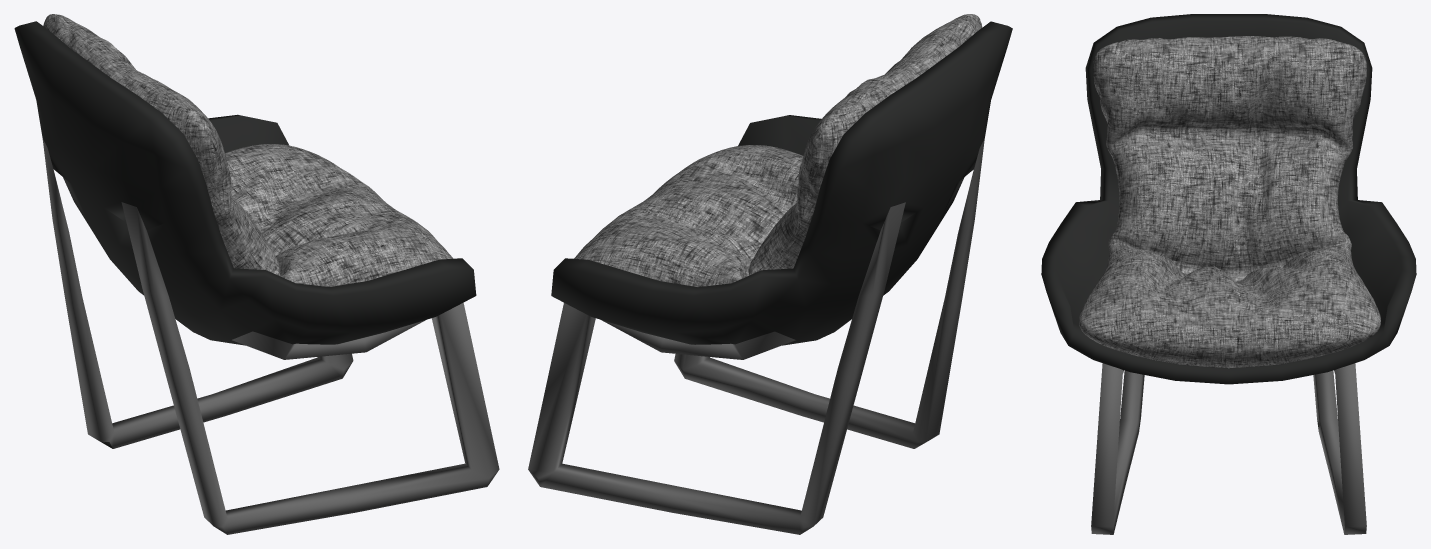
The model's file is chair.glb.
3 views of the same model, side by side, from view 1: azimuth 30°, elevation 25°; view 2: azimuth 150°, elevation 25°; view 3: azimuth 270°, elevation 25° (orthographic). The views are drawn at different scales.
Parts seen in each view (by area): view 1: chair, cushion; view 2: chair, cushion; view 3: cushion, chair.
Boxes of the visible parts, <box> form: chair: <box>14,21,499,534</box>; cushion: <box>43,14,452,286</box>; chair: <box>528,21,1012,534</box>; cushion: <box>574,14,982,286</box>; cushion: <box>1079,36,1380,368</box>; chair: <box>1041,14,1416,534</box>.
Bounding box in the file's own units: 3.6 × 4.39 × 3.91.
Materials: 3 (1 with a texture image).
